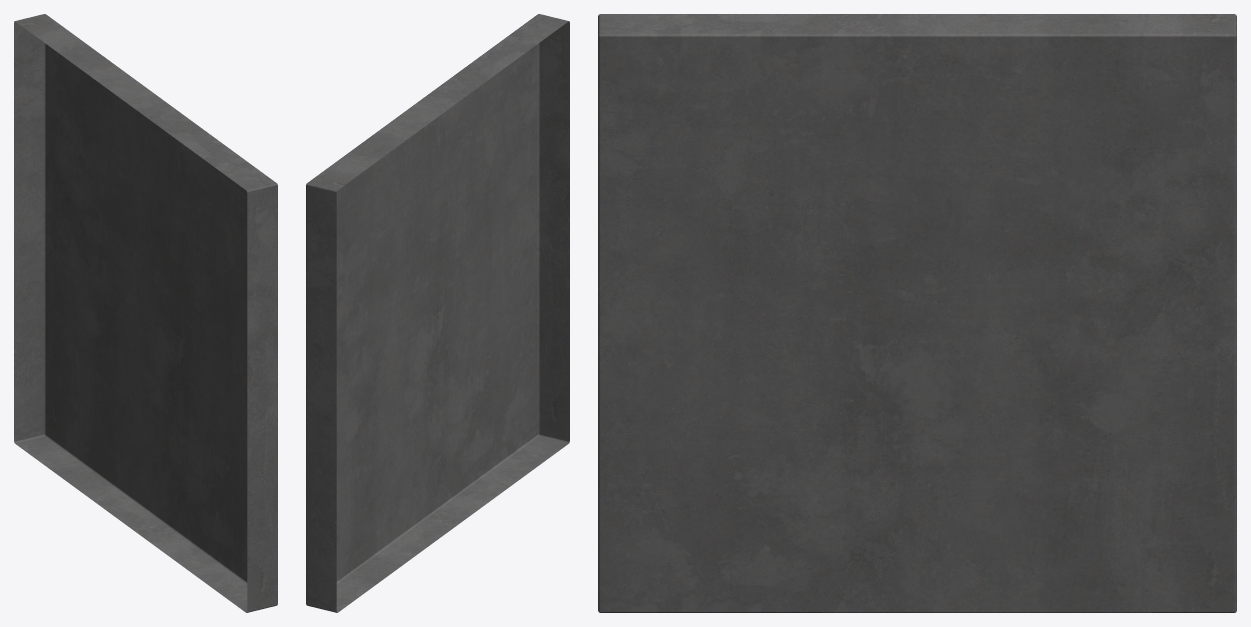
Rendered from cP_Pathway04_11.dae.
The picture shows the model from 3 angles, left to right: view 1: azimuth 30°, elevation 25°; view 2: azimuth 150°, elevation 25°; view 3: azimuth 270°, elevation 25°; orthographic projection. The views are drawn at different scales.
Visible parts, largest first — view 1: cP_Pathway04_11.001; view 2: cP_Pathway04_11.001; view 3: cP_Pathway04_11.001.
Boxes of the visible parts, x1=… form: cP_Pathway04_11.001: x1=14, y1=14, x2=277, y2=612; cP_Pathway04_11.001: x1=306, y1=14, x2=569, y2=612; cP_Pathway04_11.001: x1=598, y1=14, x2=1236, y2=612.
Bounding box in the file's own units: 0.3104 × 4 × 4.
